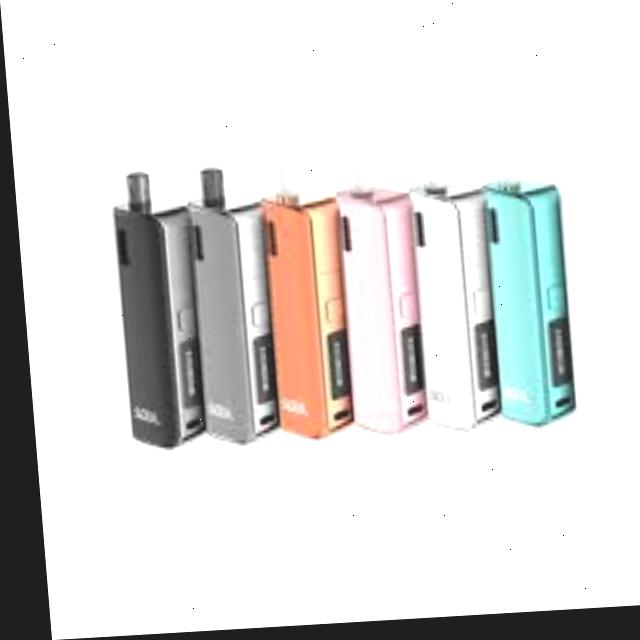vape: (107, 171, 204, 457), (252, 163, 349, 447), (183, 168, 278, 454), (478, 154, 571, 435), (333, 158, 422, 443), (404, 159, 491, 441)
